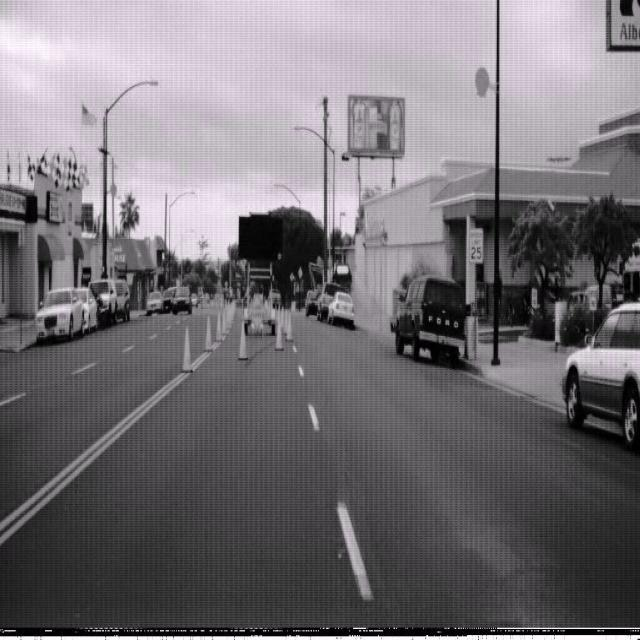speedLimit25: (468, 226, 483, 264)
